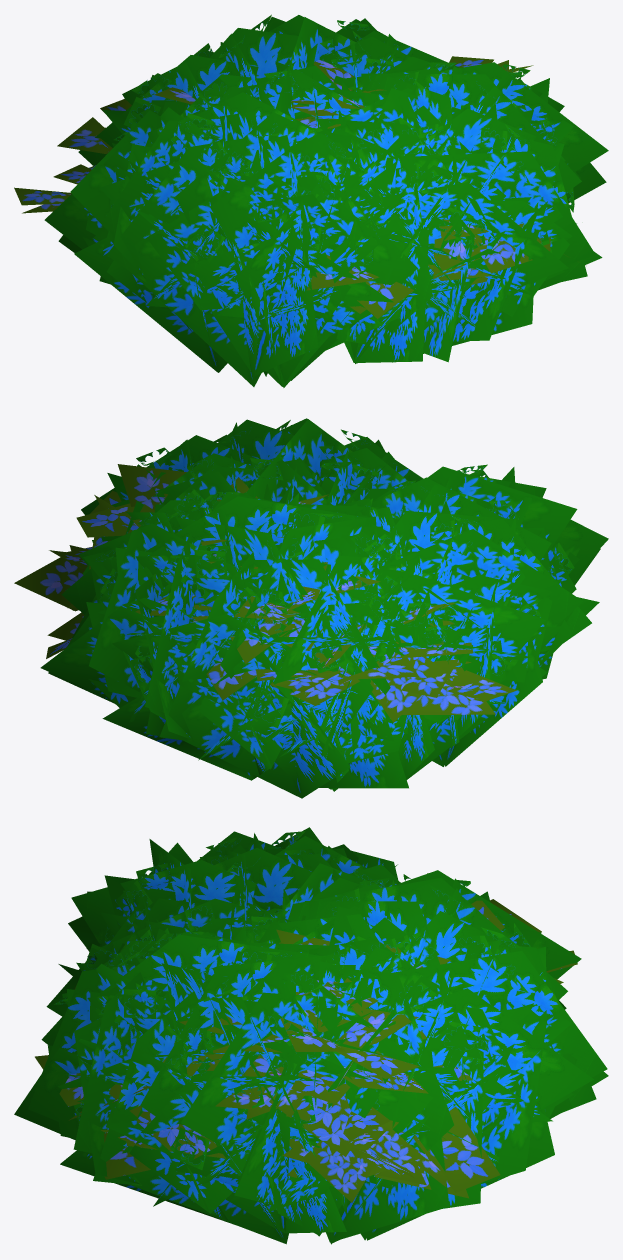
The model's file is Homeworld_Exterior_Xm_Build_House_06_02_Lod0.fbx.
The picture shows the model from 3 angles, top to bottom: view 1: azimuth 30°, elevation 25°; view 2: azimuth 150°, elevation 25°; view 3: azimuth 270°, elevation 25°; orthographic projection. The views are drawn at different scales.
Visible parts, largest first — view 1: Homeworld_Exterior_Xm_Build_House_06_02_Lod0; view 2: Homeworld_Exterior_Xm_Build_House_06_02_Lod0; view 3: Homeworld_Exterior_Xm_Build_House_06_02_Lod0.
Part boxes in pixels (bbox=[...]): Homeworld_Exterior_Xm_Build_House_06_02_Lod0: bbox=[14, 14, 608, 387]; Homeworld_Exterior_Xm_Build_House_06_02_Lod0: bbox=[14, 418, 608, 798]; Homeworld_Exterior_Xm_Build_House_06_02_Lod0: bbox=[14, 827, 608, 1244].
Size of the model in its own units: 2.25 by 1.31 by 2.08.
